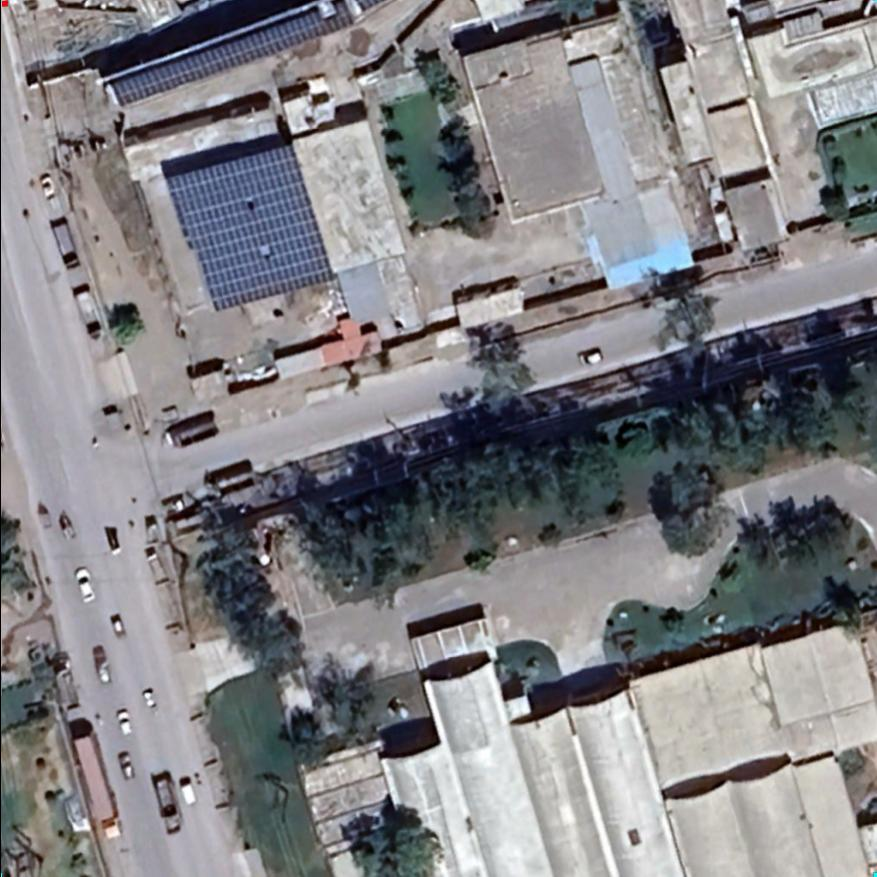Solarpanel: (100, 0, 401, 111), (157, 139, 341, 317)
